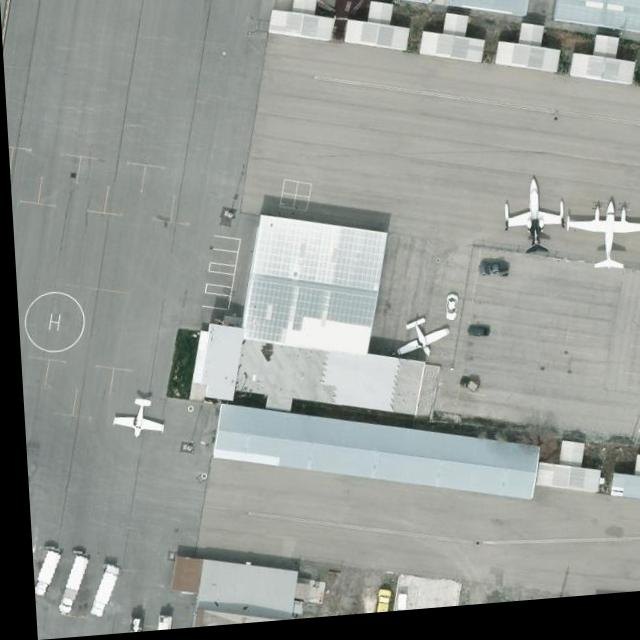vehicle: (49, 552, 83, 618), (80, 563, 115, 624), (25, 545, 56, 600), (473, 266, 506, 290), (461, 333, 488, 349), (441, 299, 455, 329), (454, 383, 476, 401)
